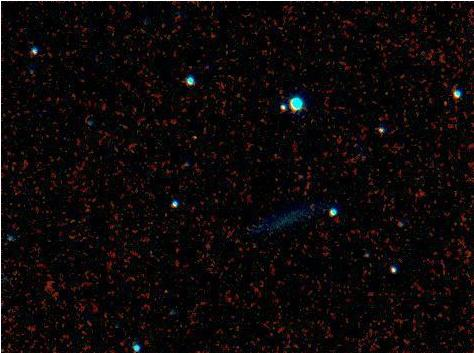star: (176, 115, 206, 145)
